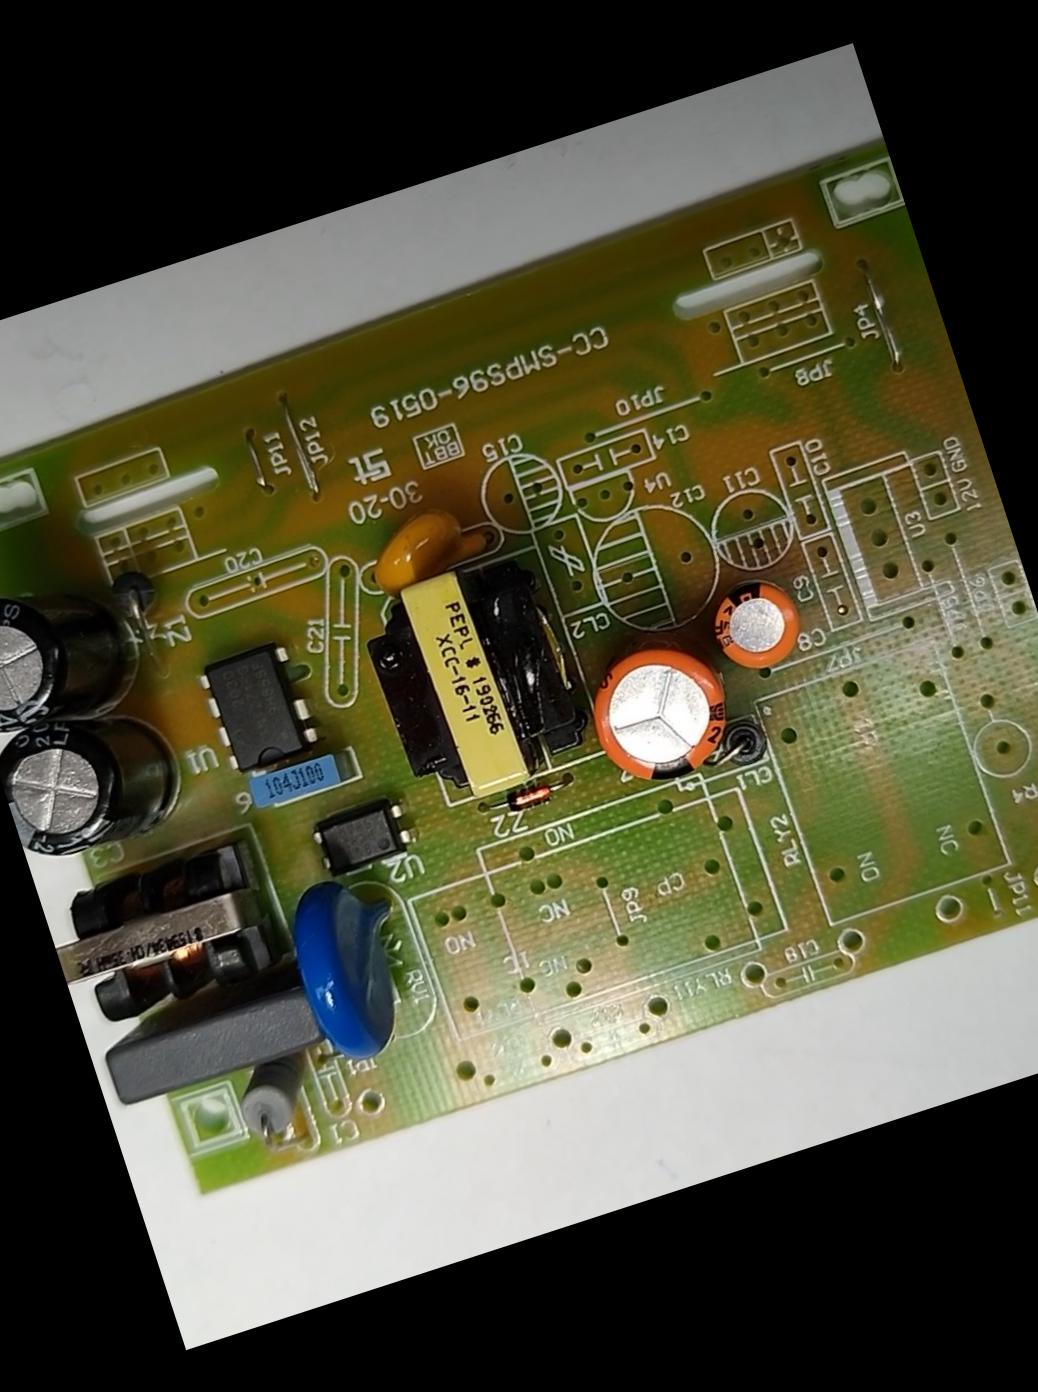Cap1: (568, 615, 755, 801)
Cap2: (702, 567, 819, 685)
Cap3: (0, 683, 201, 875)
Cap4: (0, 556, 155, 743)
MOSFET: (189, 634, 327, 779)
Mov: (271, 858, 439, 1076)
Resistor: (221, 1048, 336, 1151)
Transformer: (348, 545, 590, 823), (40, 834, 293, 1041)
